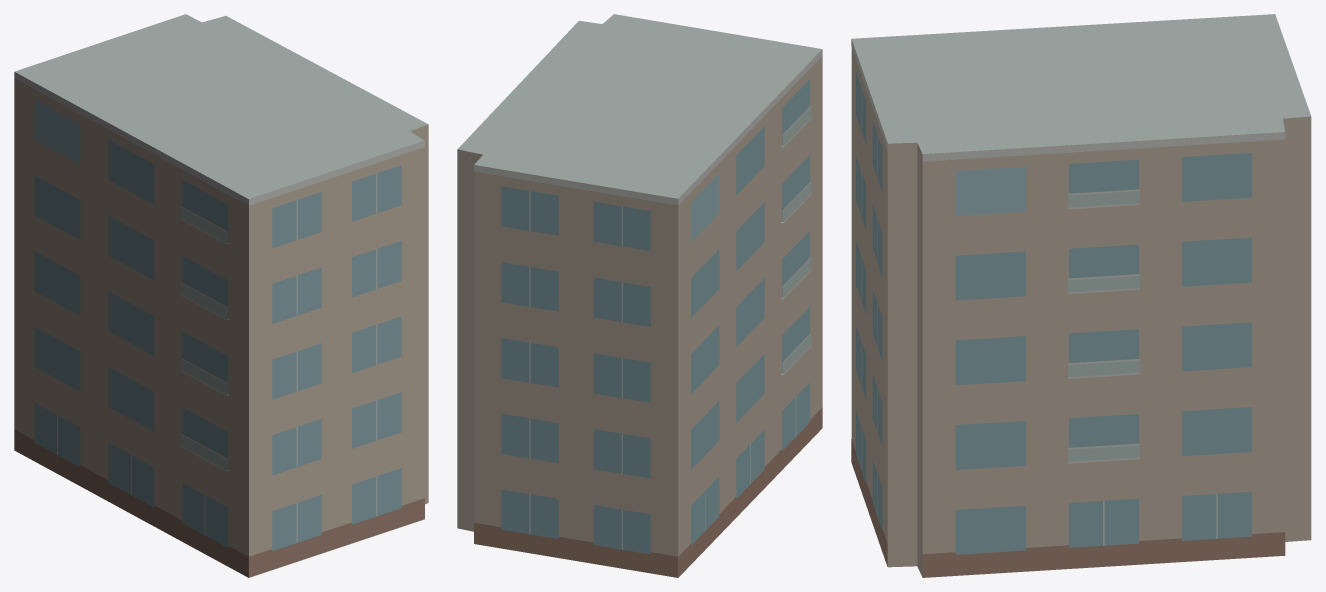
Rendered from survey-upis-32739155.glb.
The picture shows the model from 3 angles, left to right: view 1: azimuth 30°, elevation 25°; view 2: azimuth 150°, elevation 25°; view 3: azimuth 270°, elevation 25°; orthographic projection. The views are drawn at different scales.
Parts seen in each view (by area): view 1: survey-upis-32739155.tmp; view 2: survey-upis-32739155.tmp; view 3: survey-upis-32739155.tmp.
Boxes of the visible parts, bbox=[...] form: survey-upis-32739155.tmp: bbox=[14, 14, 428, 577]; survey-upis-32739155.tmp: bbox=[457, 14, 822, 577]; survey-upis-32739155.tmp: bbox=[851, 14, 1311, 577].
Bounding box in the file's own units: 9.87 × 13.9 × 13.69.
